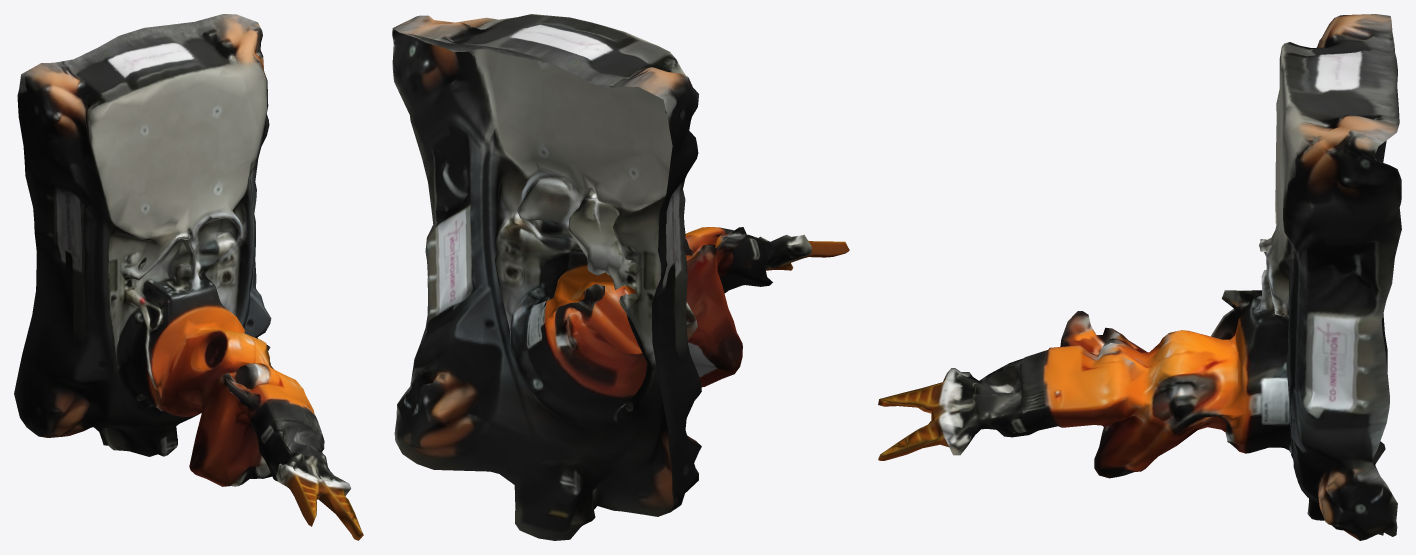
File: kuka_youbot.obj
3 renders of one model, left to right at view 1: azimuth 30°, elevation 25°; view 2: azimuth 150°, elevation 25°; view 3: azimuth 270°, elevation 25°, orthographic. The views are drawn at different scales.
Parts seen in each view (by area): view 1: bot; view 2: bot; view 3: bot.
Part boxes in pixels (bbox=[...]): bot: bbox=[14, 14, 363, 540]; bot: bbox=[392, 14, 849, 540]; bot: bbox=[878, 14, 1401, 540].
Bounding box in the file's own units: 8.21 × 13.21 × 13.39.
